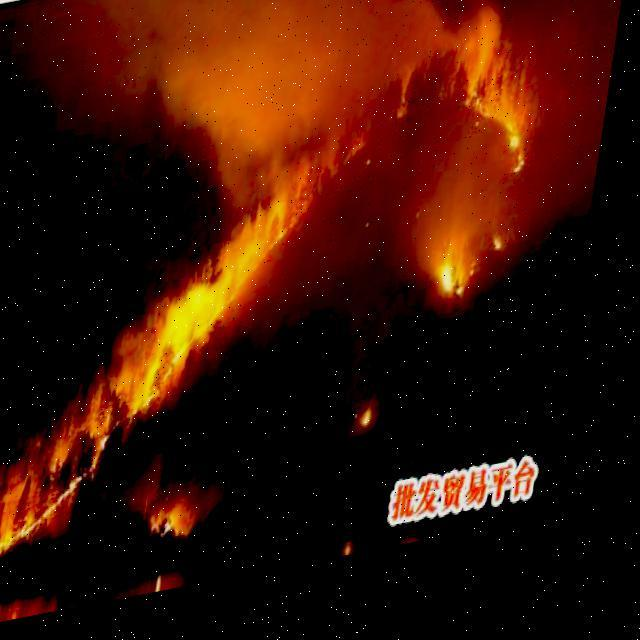Fire: (0, 24, 559, 574)
